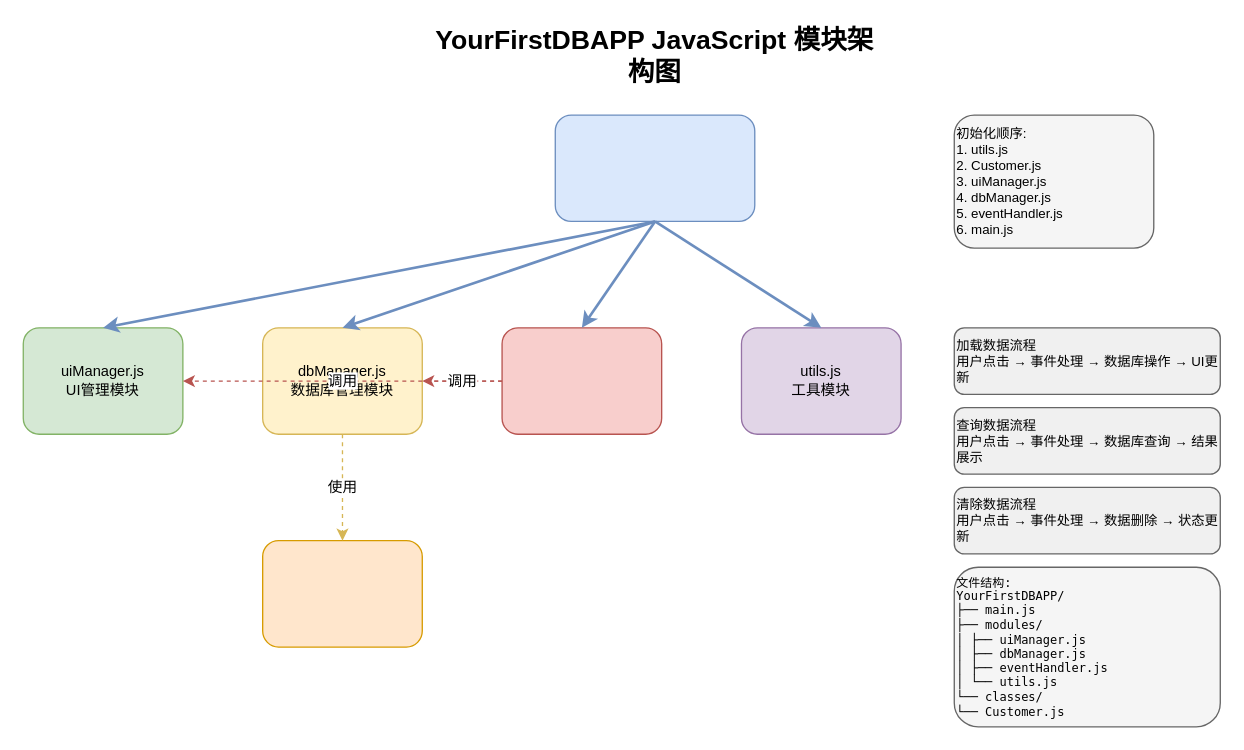
The diagram is 1244 pixels wide and 750 high, and some of its shapes have lost their labels. The box of each missing label's shape, as (x1, y1, x2, y2) in pixels:
Customer.js 客户业务逻辑类: (261, 539, 422, 647)
eventHandler.js 事件处理模块: (501, 327, 662, 434)
main.js 主入口文件: (554, 114, 755, 221)
